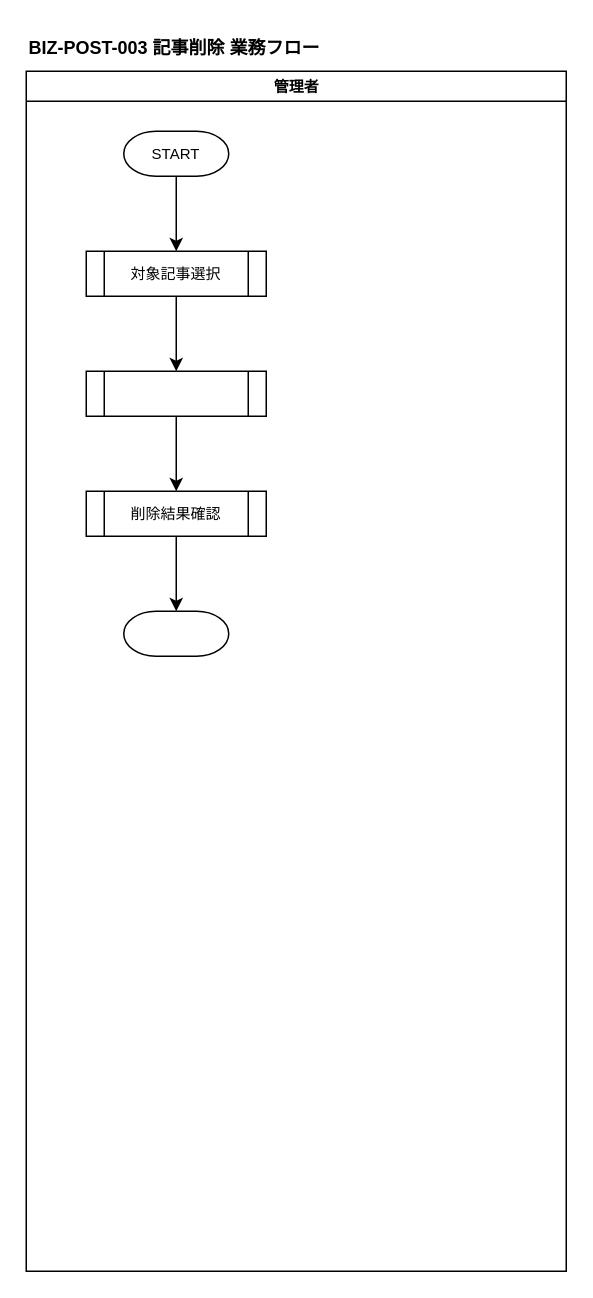
Some shapes in this 593 by 1298 pixel diagram are drawn without their labels. The shapes that lost their labels are listed below. From the top down, each one's box as (x1, y1, x2, y2) in pixels, then its label:
(85, 370, 266, 416): 記事削除
(122, 610, 229, 656): END
